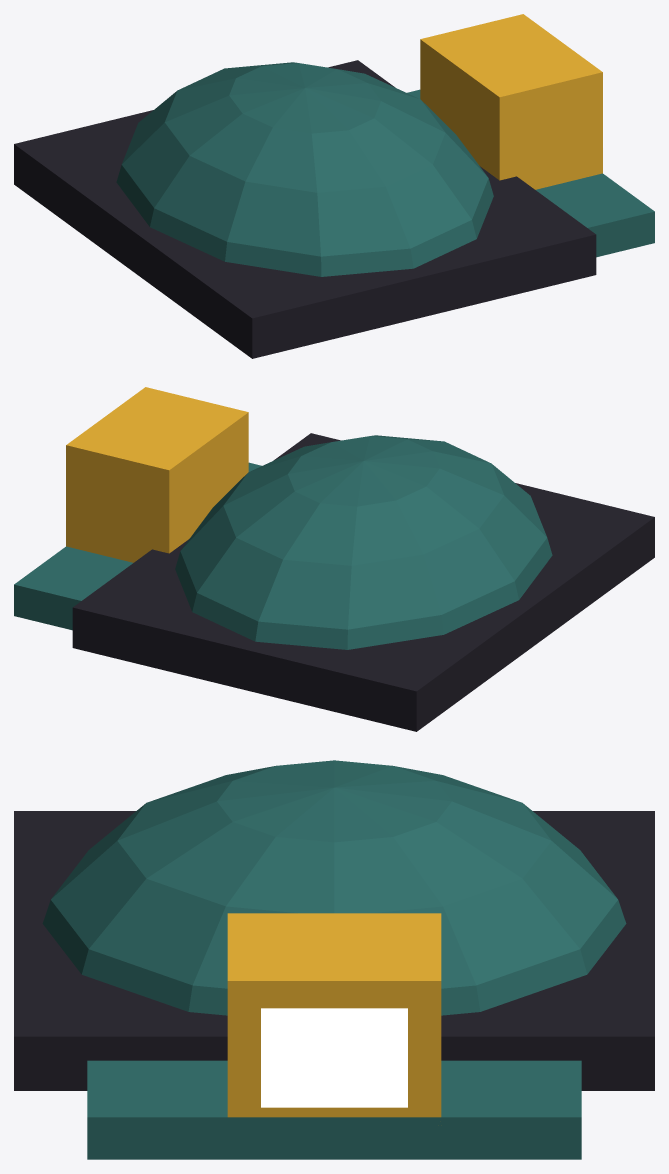
3 views of the same model, one above another, from view 1: azimuth 30°, elevation 25°; view 2: azimuth 150°, elevation 25°; view 3: azimuth 270°, elevation 25° (orthographic). The views are drawn at different scales.
Parts seen in each view (by area): view 1: cap, band, lamp_housing, brim; view 2: cap, band, lamp_housing, brim; view 3: cap, band, brim, lamp_housing, lamp_lens.
Boxes of the visible parts, box(x1,y1,x2,y2) form: cap: box(116, 62, 493, 276); band: box(14, 60, 596, 358); lamp_housing: box(420, 14, 602, 189); brim: box(407, 89, 654, 257); cap: box(175, 435, 552, 649); band: box(72, 433, 654, 731); lamp_housing: box(66, 387, 248, 562); brim: box(14, 462, 261, 630); cap: box(42, 760, 626, 1015); band: box(14, 811, 654, 1090); brim: box(87, 1060, 581, 1159); lamp_housing: box(227, 913, 441, 1117); lamp_lens: box(261, 1008, 407, 1107).
Bounding box in the file's own units: 0.515 × 0.1675 × 0.48.
